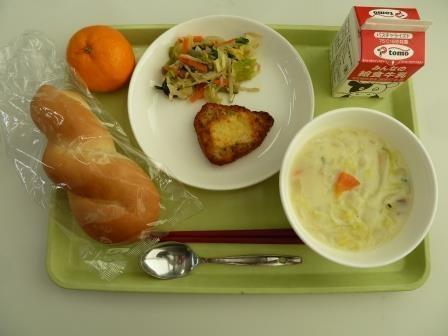Bread: (15, 83, 159, 243)
Citrus: (46, 18, 139, 102)
Meat: (191, 99, 277, 170)
Milk: (328, 5, 437, 110)
soup-plain: (285, 111, 434, 259)
vegetable based cooked food: (148, 18, 271, 112)
